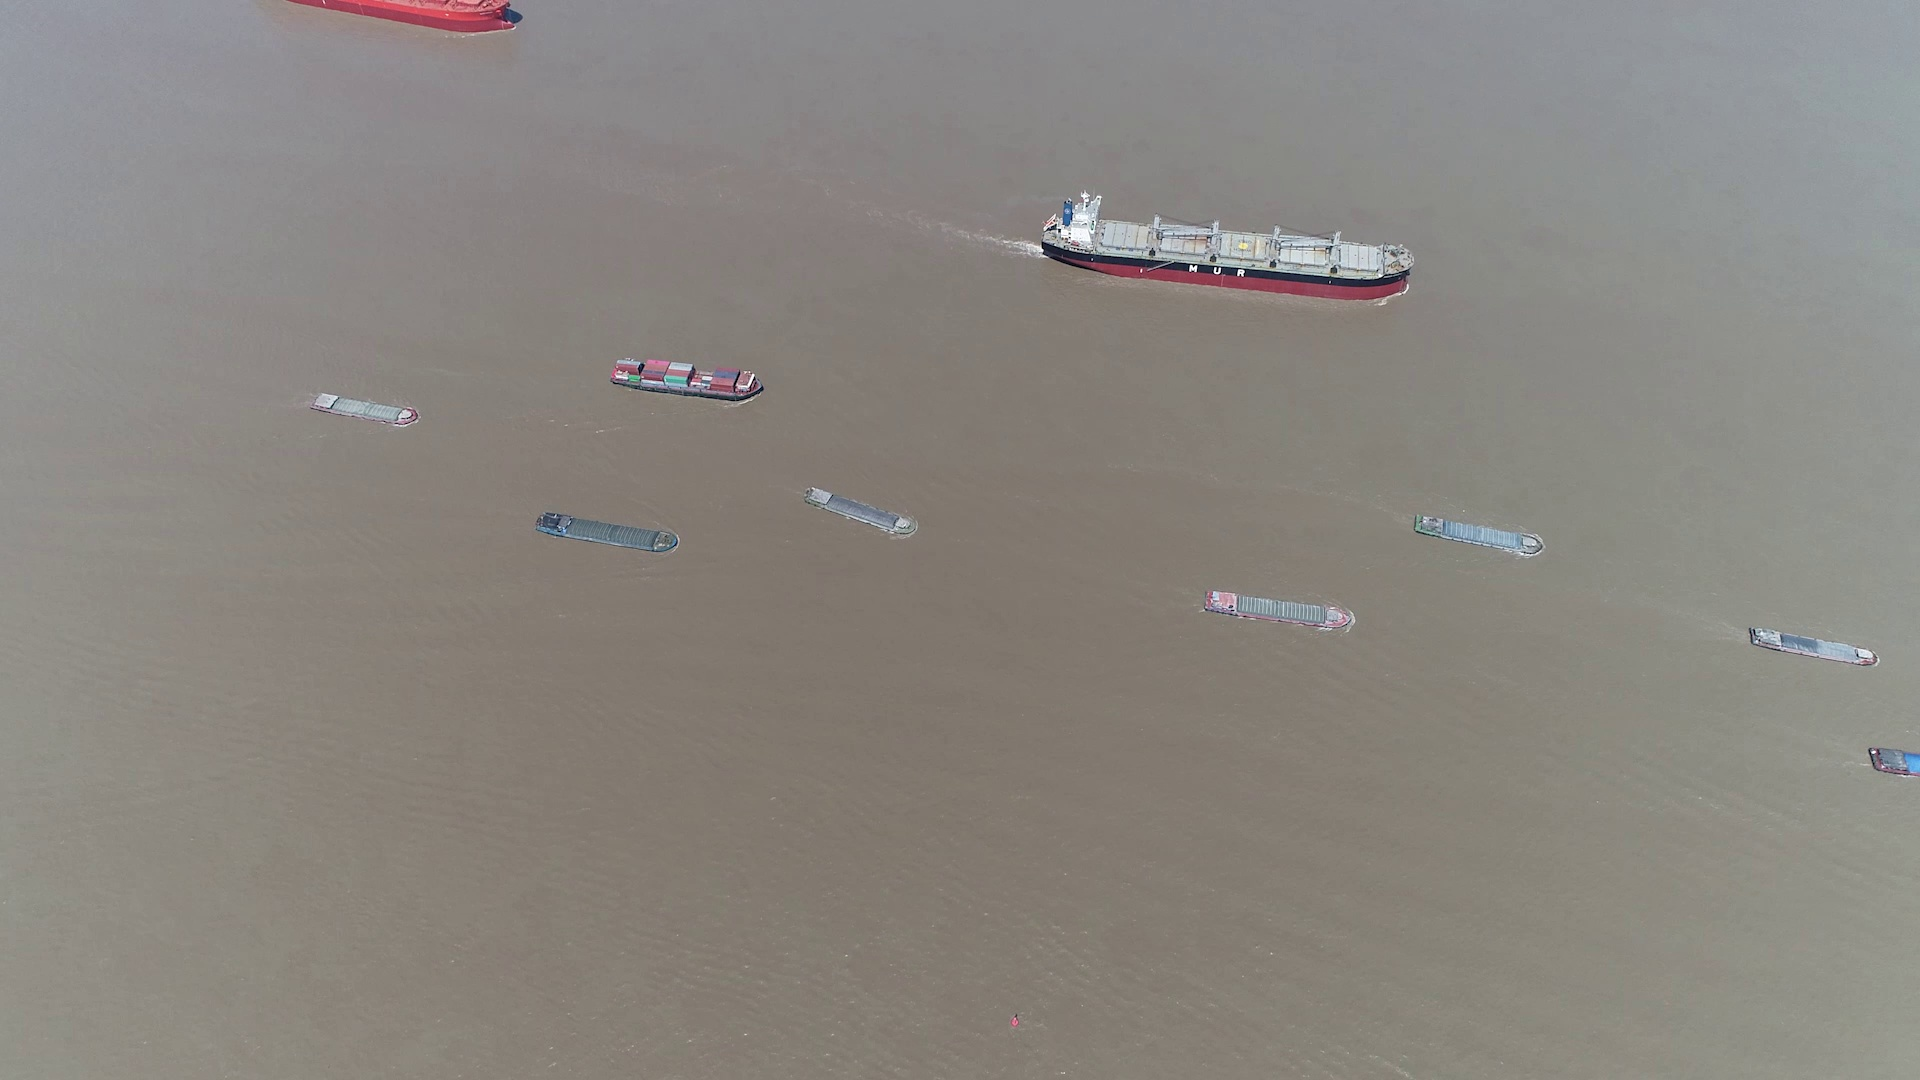ship: (1044, 195, 1414, 299), (274, 0, 520, 40), (608, 357, 764, 401), (1203, 589, 1357, 632), (537, 512, 679, 553), (804, 488, 916, 539), (1412, 514, 1547, 556), (1747, 625, 1879, 667), (309, 392, 419, 427), (1869, 746, 1919, 779)
